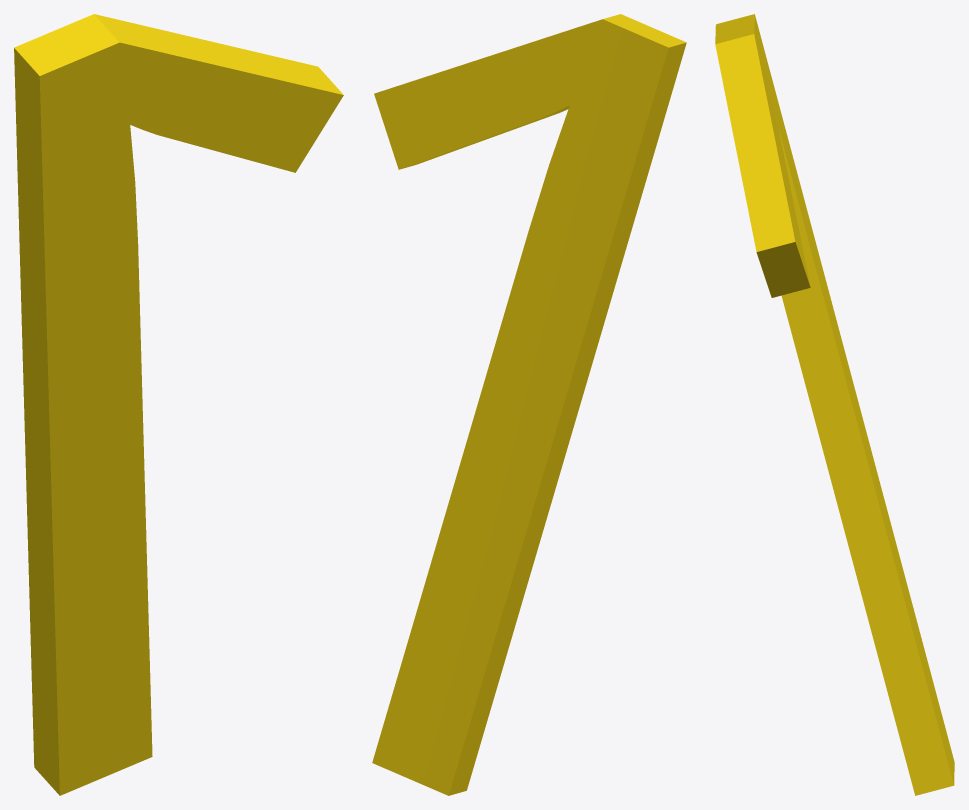
The model's file is Number_1.gltf.
3 renders of one model, left to right at view 1: azimuth 30°, elevation 25°; view 2: azimuth 150°, elevation 25°; view 3: azimuth 270°, elevation 25°, orthographic. The views are drawn at different scales.
Visible parts, largest first — view 1: Sub_5_Cell_3_1_Number_1; view 2: Sub_5_Cell_3_1_Number_1; view 3: Sub_5_Cell_3_1_Number_1.
Part boxes in pixels (x1=…): Sub_5_Cell_3_1_Number_1: x1=14, y1=14, x2=343, y2=795; Sub_5_Cell_3_1_Number_1: x1=372, y1=14, x2=686, y2=795; Sub_5_Cell_3_1_Number_1: x1=715, y1=14, x2=954, y2=795.
Bounding box in the file's own units: 0.00986 × 0.0248 × 0.00754.
